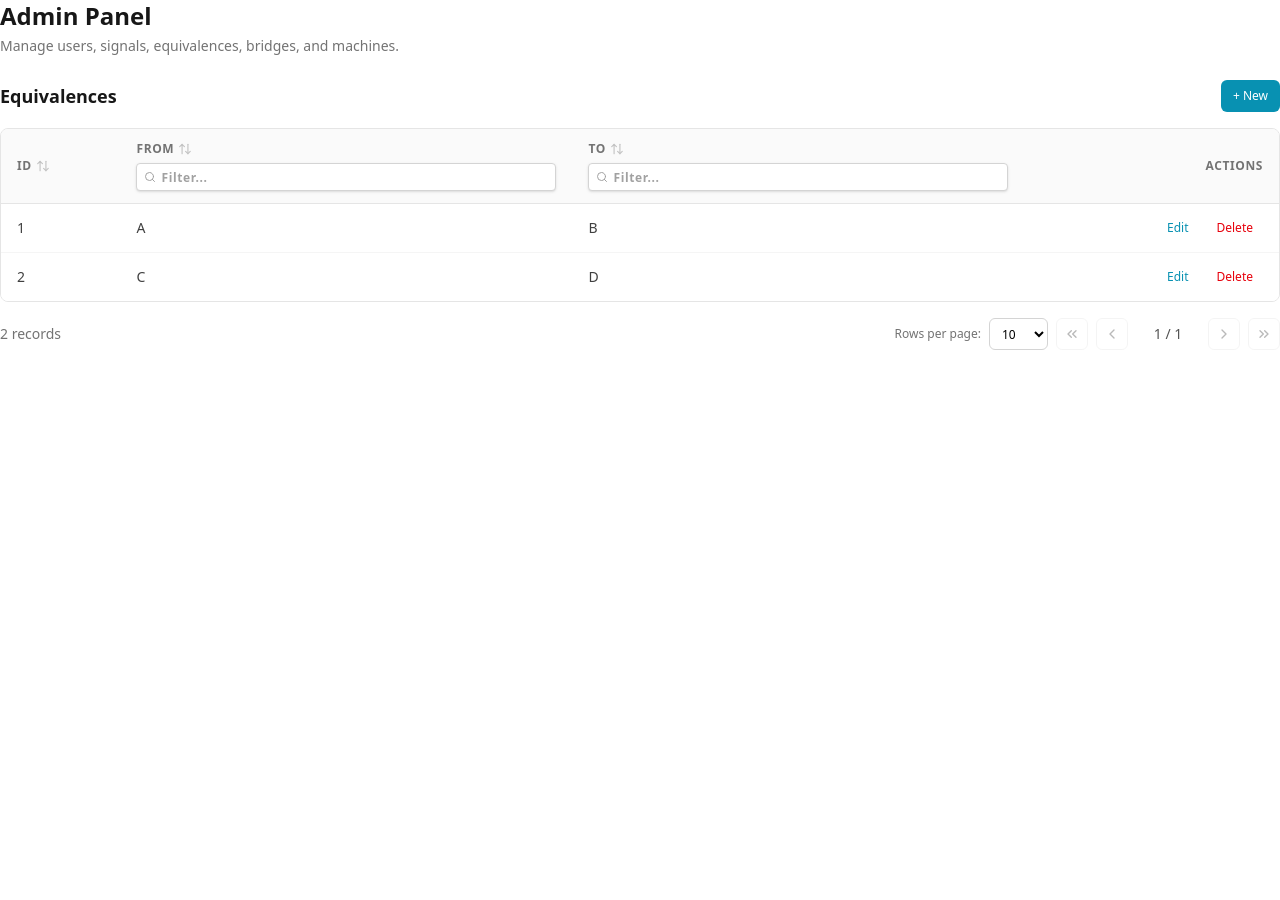
AdminPanelContainer › Equivalences section › renders equivalence list and supports CRUD
Check: the text "A" is shown, box 120,204 -> 572,252
Check: the text "C" is shown, box 120,252 -> 572,301
Open create form
Click the button "+ New": click(1250, 96) 1221,80 -> 1279,112
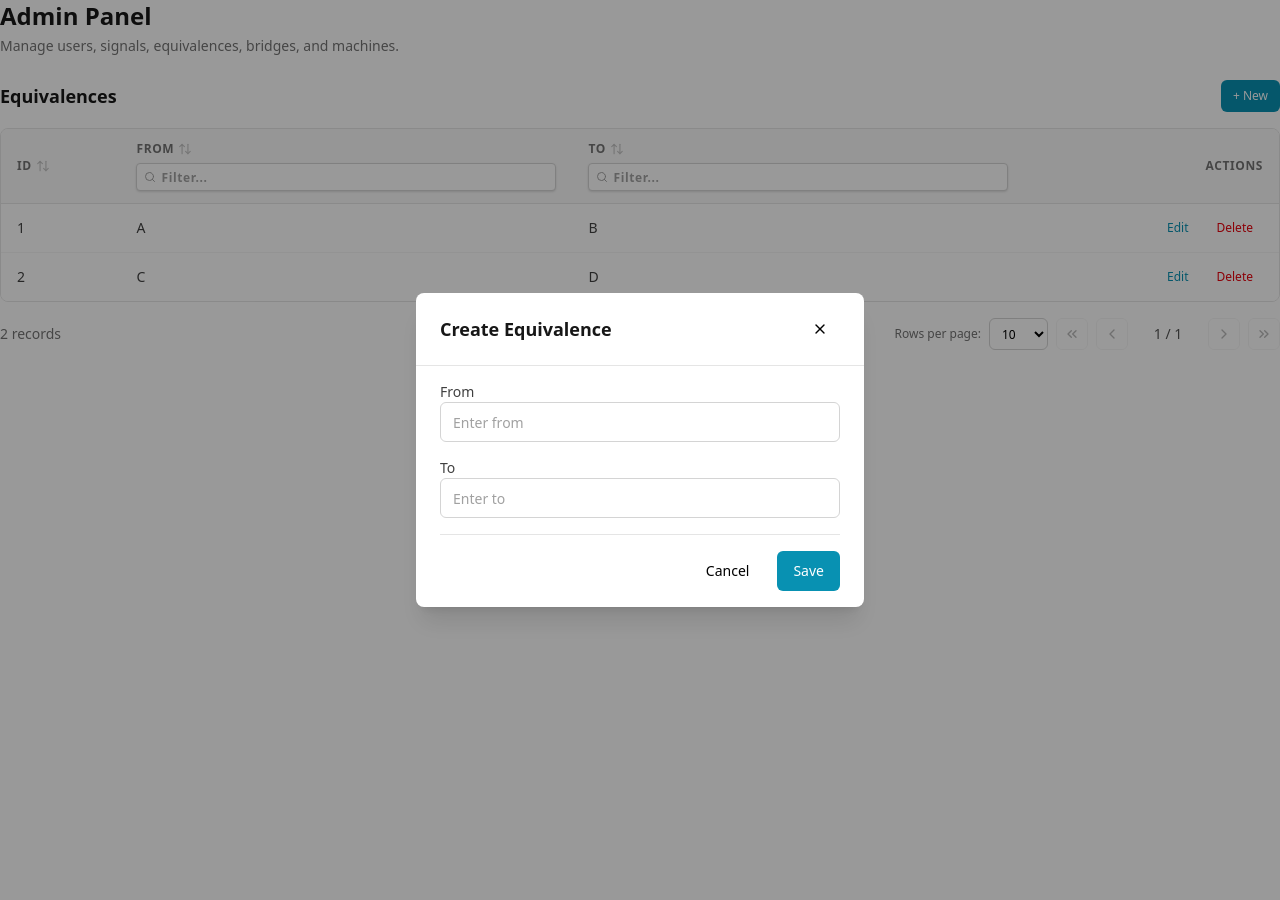
Check: the heading "Create Equivalence" is shown, box 440,315 -> 612,343
